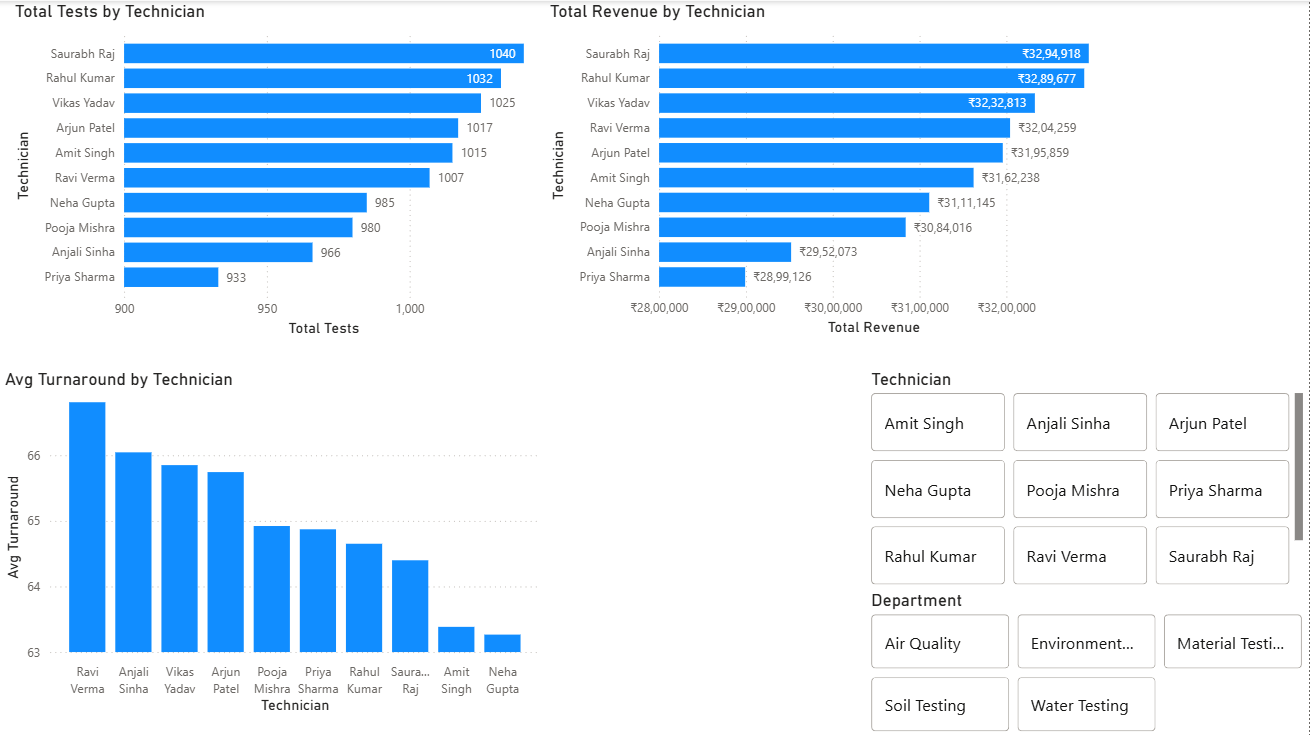

The page's visual inventory and layout, read from the dashboard file:
{"tool":"powerbi","page":{"name":"Technician Analytics","canvas":[1280,720],"ordinal":1},"visuals":[{"type":"clusteredBarChart","fields":{"Category":["laboratory_operations.Technician"],"Y":["laboratory_operations.Total Tests"]},"box":[10,0,522.9,332.9],"z":0},{"type":"barChart","fields":{"Y":["laboratory_operations.Total Revenue"],"Category":["laboratory_operations.Technician"]},"box":[533.2,0,566.2,332.6],"z":1000},{"type":"columnChart","fields":{"Category":["laboratory_operations.Technician"],"Y":["laboratory_operations.Avg Turnaround"]},"box":[0,359.5,533.2,342.4],"z":2000},{"type":"advancedSlicerVisual","fields":{"Values":["laboratory_operations.Technician"]},"box":[847.4,359.5,432.9,216.4],"z":3000},{"type":"advancedSlicerVisual","fields":{"Values":["laboratory_operations.Department"]},"box":[847.4,576,432.9,144.3],"z":4000}]}

Visuals, with their boxes in screenshot pixels (x1, y1, x2, y2), scaled from the page's 1280x720 canvas onto the 1310x735 screenshot:
clusteredBarChart - laboratory_operations.Technician x laboratory_operations.Total Tests: locate(10, 0, 545, 340)
barChart - laboratory_operations.Total Revenue x laboratory_operations.Technician: locate(546, 0, 1125, 340)
columnChart - laboratory_operations.Technician x laboratory_operations.Avg Turnaround: locate(0, 367, 546, 717)
advancedSlicerVisual - laboratory_operations.Technician: locate(867, 367, 1309, 588)
advancedSlicerVisual - laboratory_operations.Department: locate(867, 588, 1309, 734)
